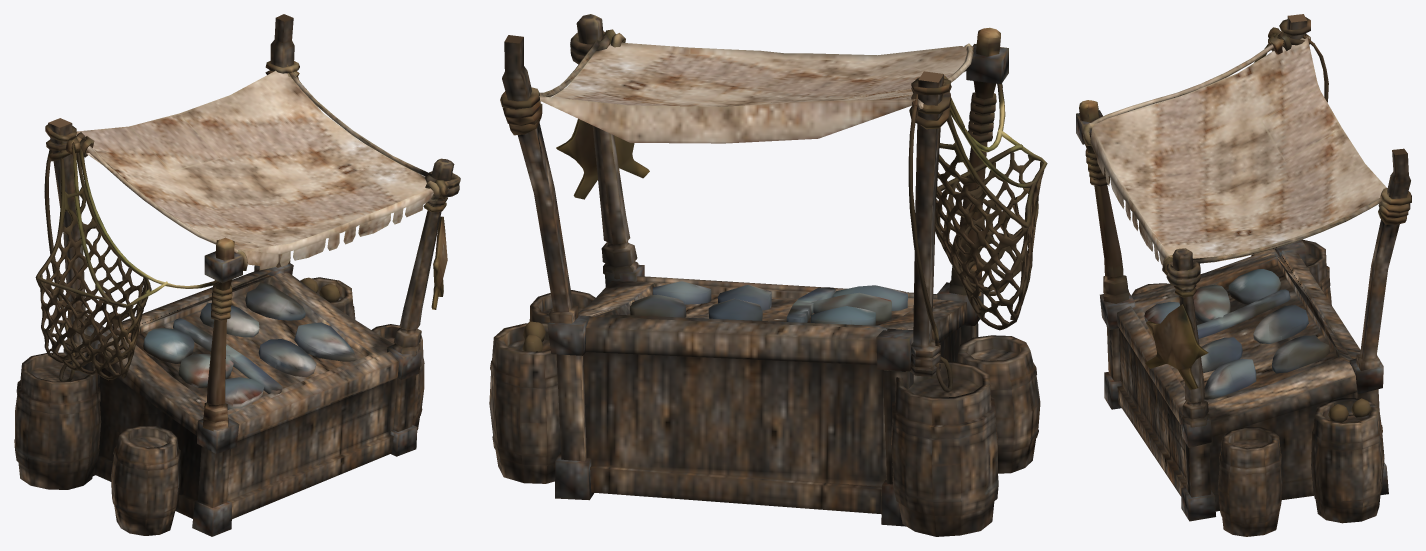
File: fish.glb
The picture shows the model from 3 angles, left to right: view 1: azimuth 30°, elevation 25°; view 2: azimuth 150°, elevation 25°; view 3: azimuth 270°, elevation 25°; orthographic projection. The views are drawn at different scales.
Parts seen in each view (by area): view 1: market_stall_fish; view 2: market_stall_fish; view 3: market_stall_fish.
Part boxes in pixels (x1,y1,x2,y2): market_stall_fish: (14, 14, 460, 536); market_stall_fish: (489, 14, 1047, 536); market_stall_fish: (1076, 14, 1411, 536).
Bounding box in the file's own units: 3 × 2.65 × 2.25.
1 material, 1 textured.
